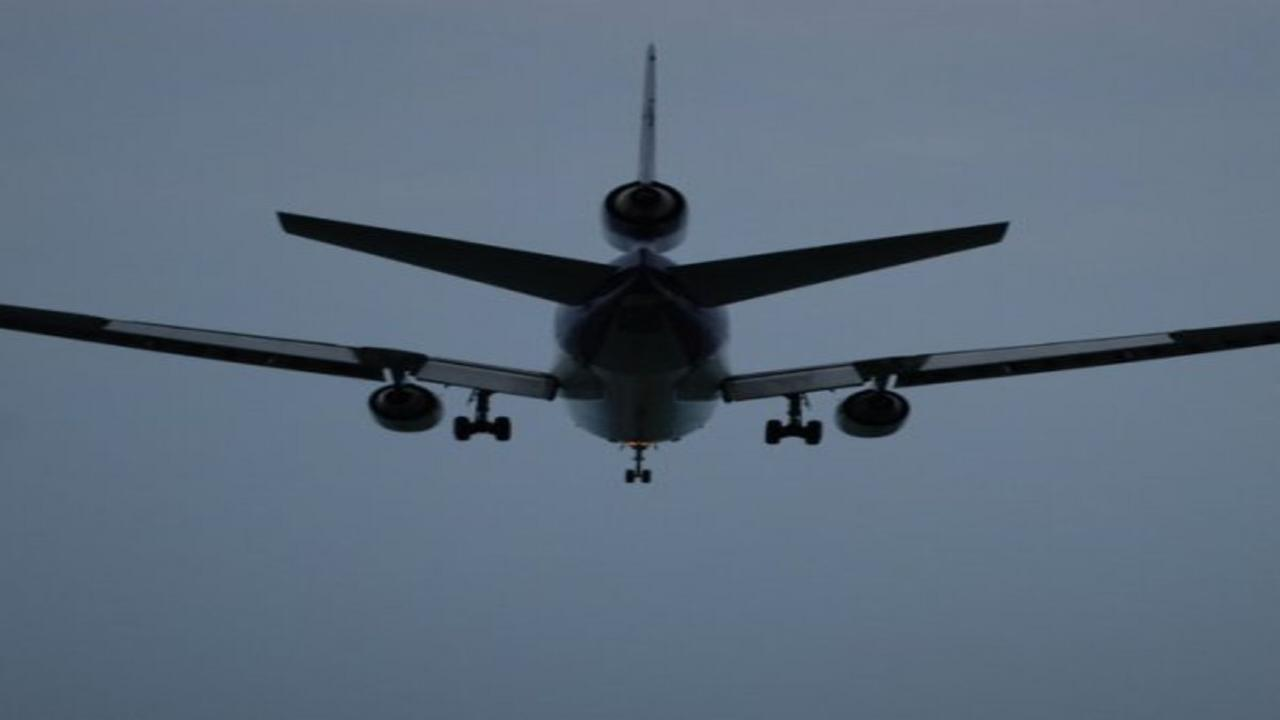Airplane: (0, 21, 1280, 492)
